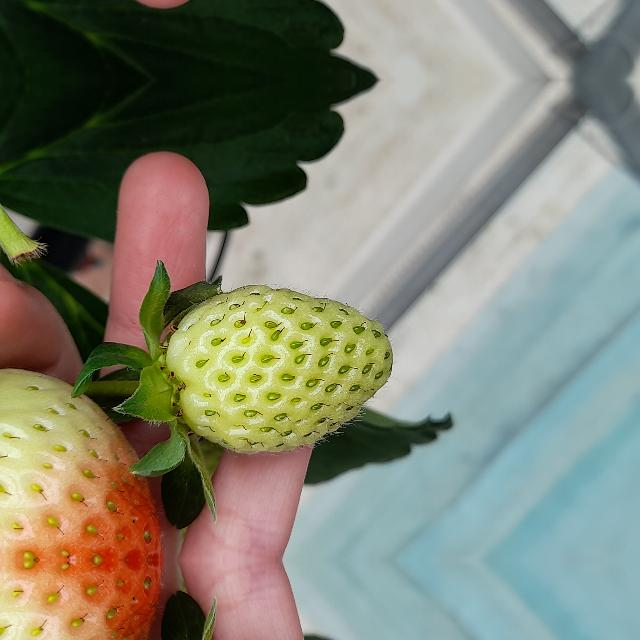Health_25: (165, 284, 392, 454)
